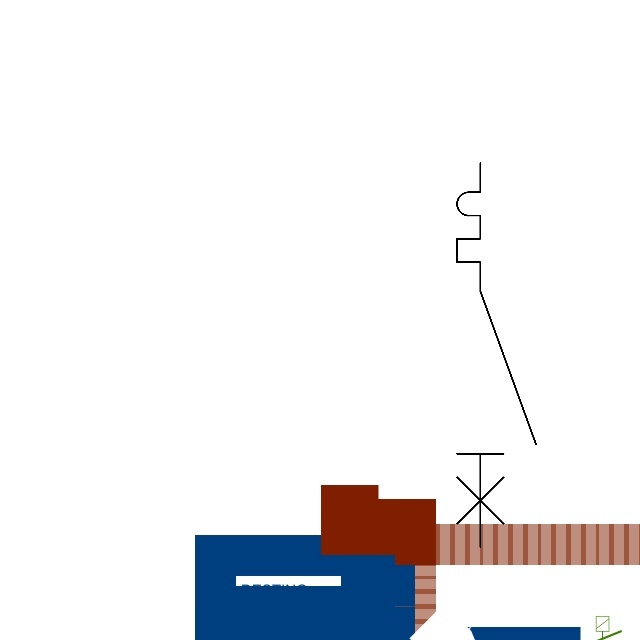interruptor_termomagnetico: (447, 153, 546, 557)
